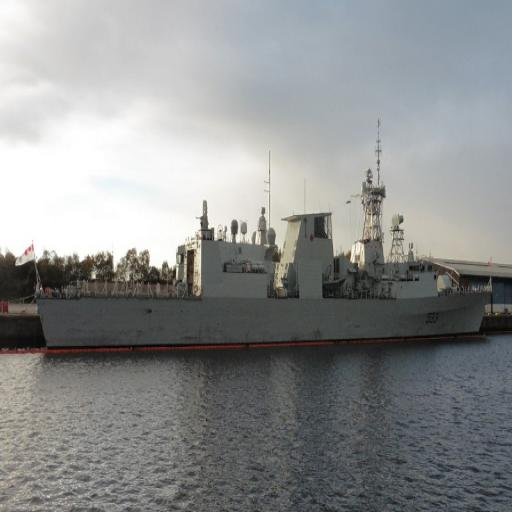Fragata: (33, 173, 503, 362)
